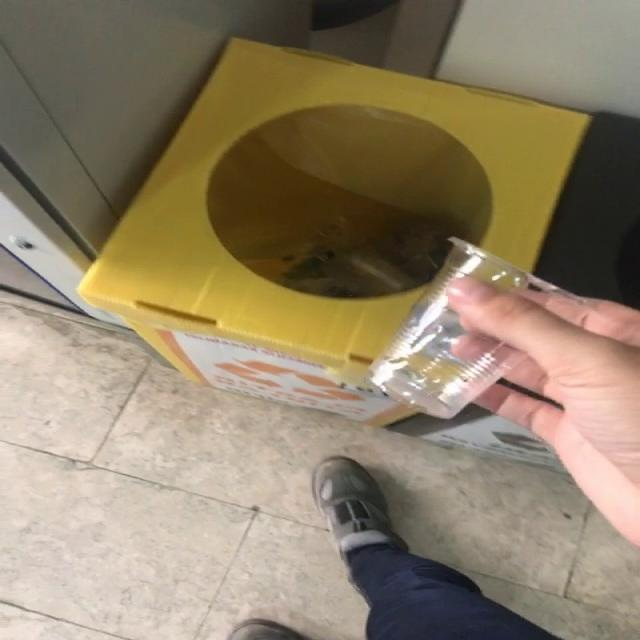Plastic: (368, 238, 580, 418)
